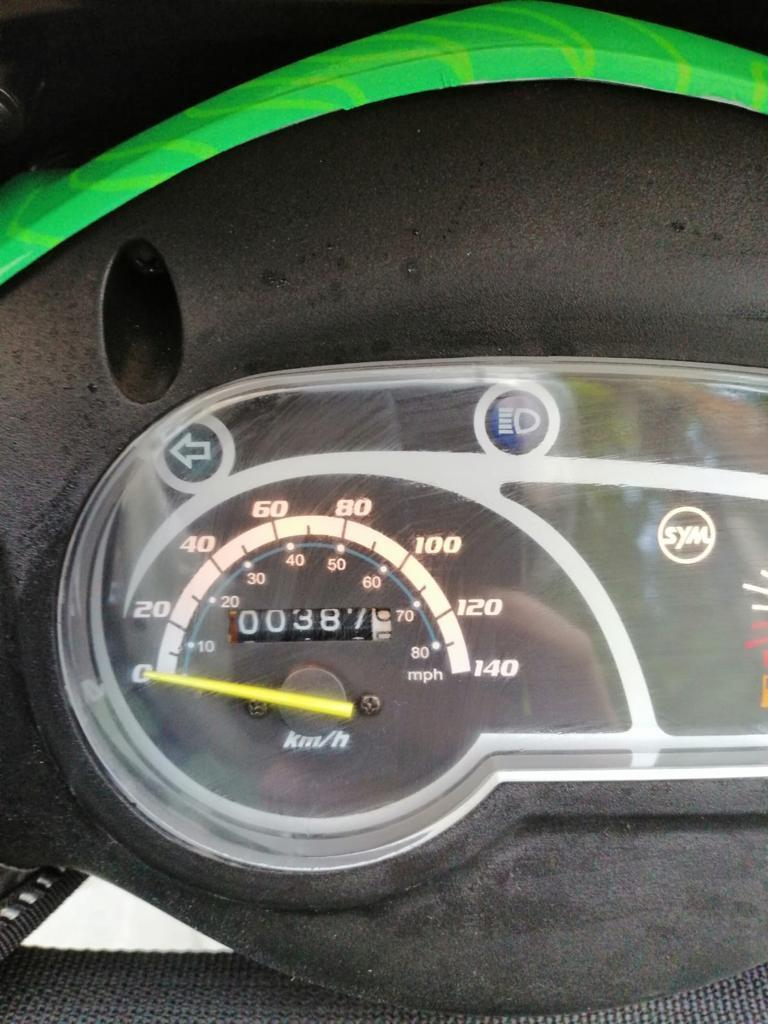0: (236, 608, 259, 635), (263, 607, 285, 634)
3: (290, 606, 314, 631)
6: (374, 605, 391, 624)
7: (346, 606, 367, 631)
8: (318, 607, 341, 632)
odometer: (222, 603, 396, 647)
